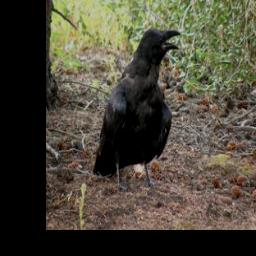Crow: (91, 27, 181, 194)
